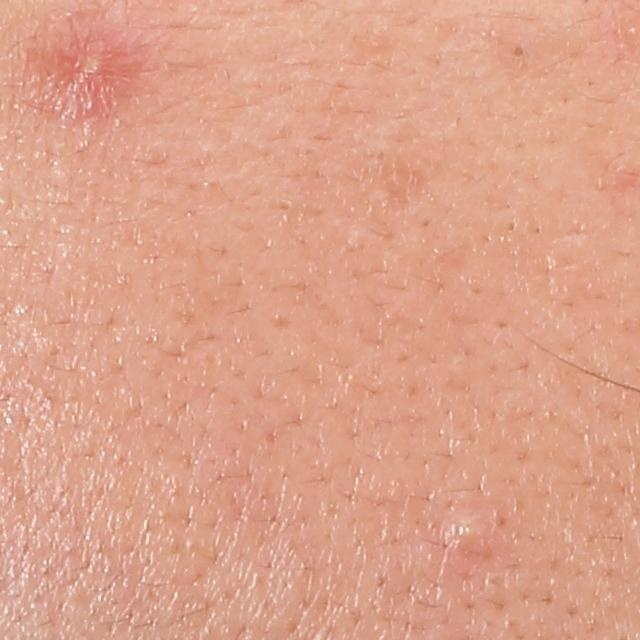comedo: (510, 40, 530, 66)
papule: (433, 507, 489, 567)
